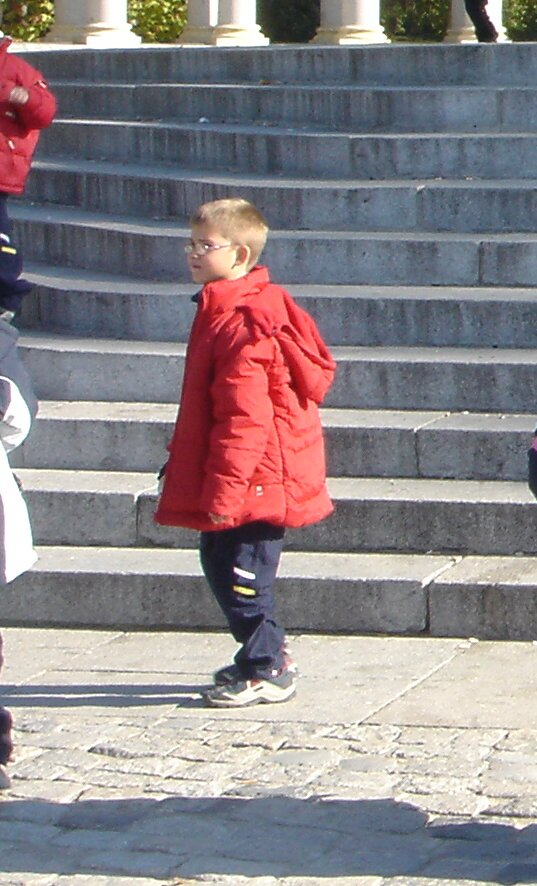person: (162, 195, 342, 726)
